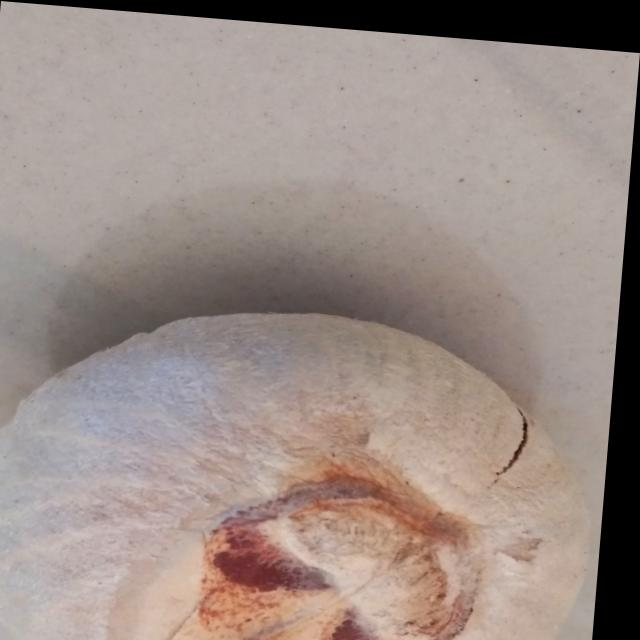phatora: (0, 268, 611, 640)
